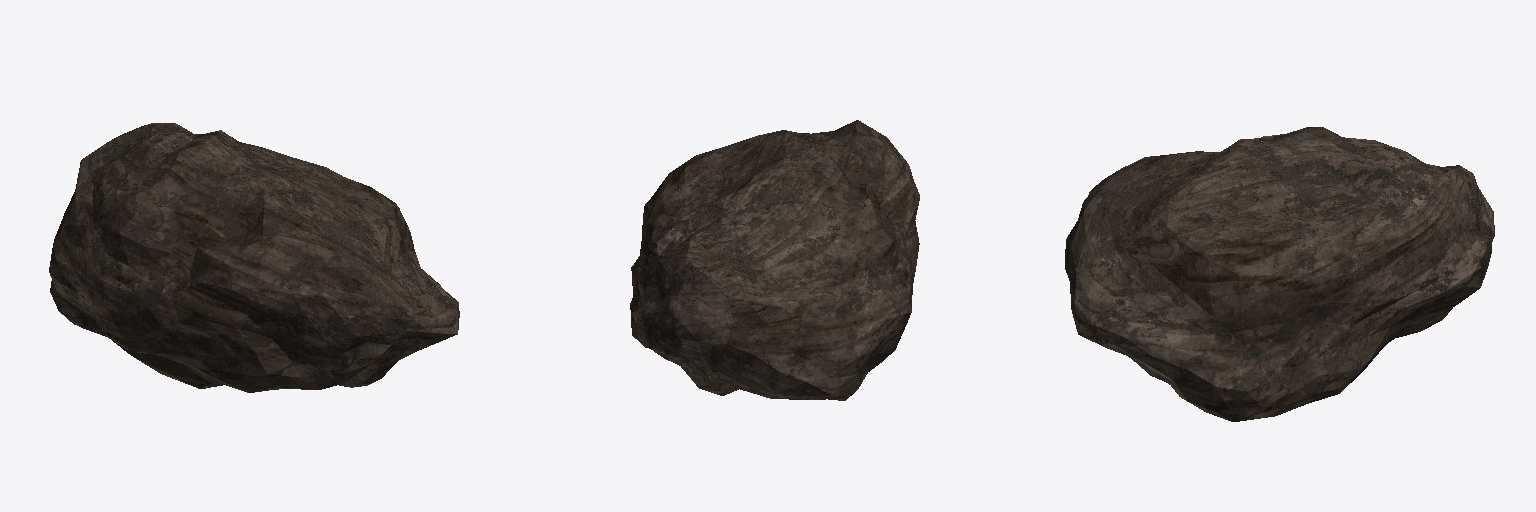
3 renders of one model, left to right at view 1: azimuth 30°, elevation 25°; view 2: azimuth 150°, elevation 25°; view 3: azimuth 270°, elevation 25°, orthographic.
Visible parts, largest first — view 1: LOW_meshId0_name; view 2: LOW_meshId0_name; view 3: LOW_meshId0_name.
Part boxes in pixels (bbox=[...]): LOW_meshId0_name: bbox=[49, 123, 459, 392]; LOW_meshId0_name: bbox=[630, 120, 919, 400]; LOW_meshId0_name: bbox=[1065, 127, 1494, 421].
Size of the model in its own units: 6.68 by 4.24 by 8.06.
1 materials, 1 textured.